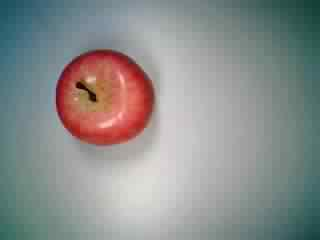apple: (50, 47, 156, 151)
